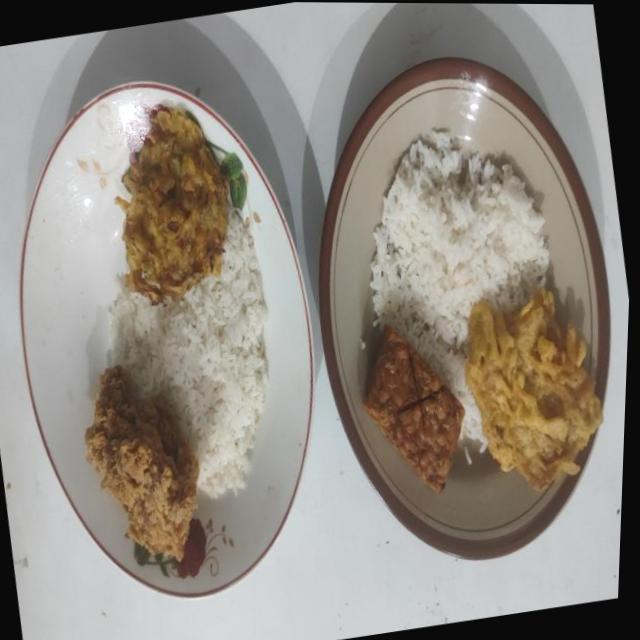nasi_putih: (370, 130, 549, 452), (111, 207, 269, 498)
tempe_goreng: (364, 326, 464, 494)
